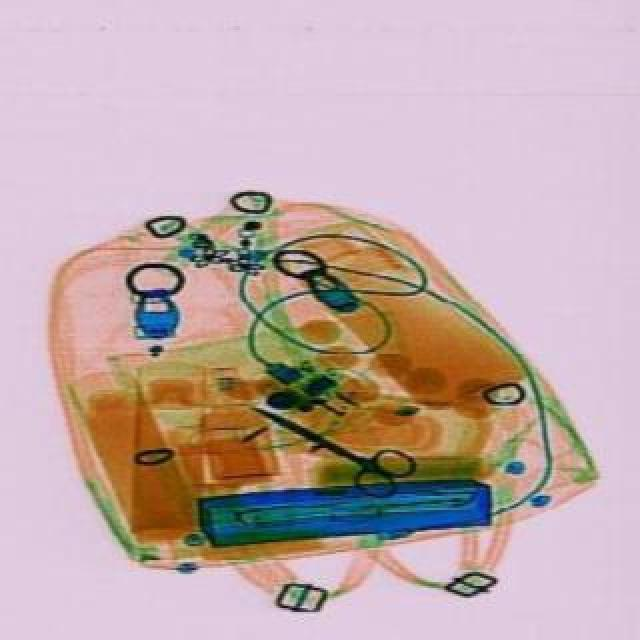pliers: (242, 380, 424, 506)
